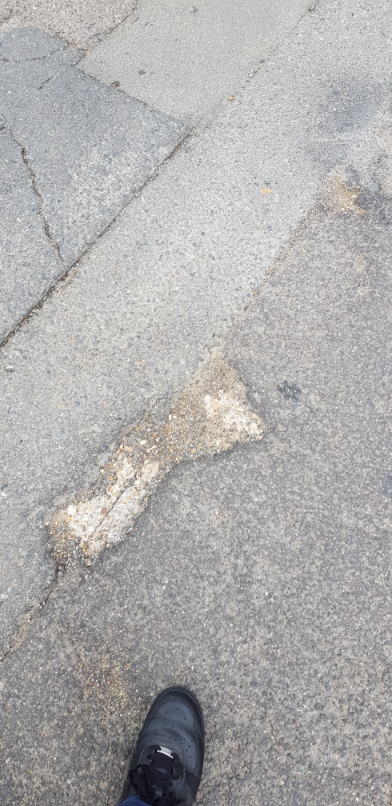pothole: (164, 236, 280, 738)
